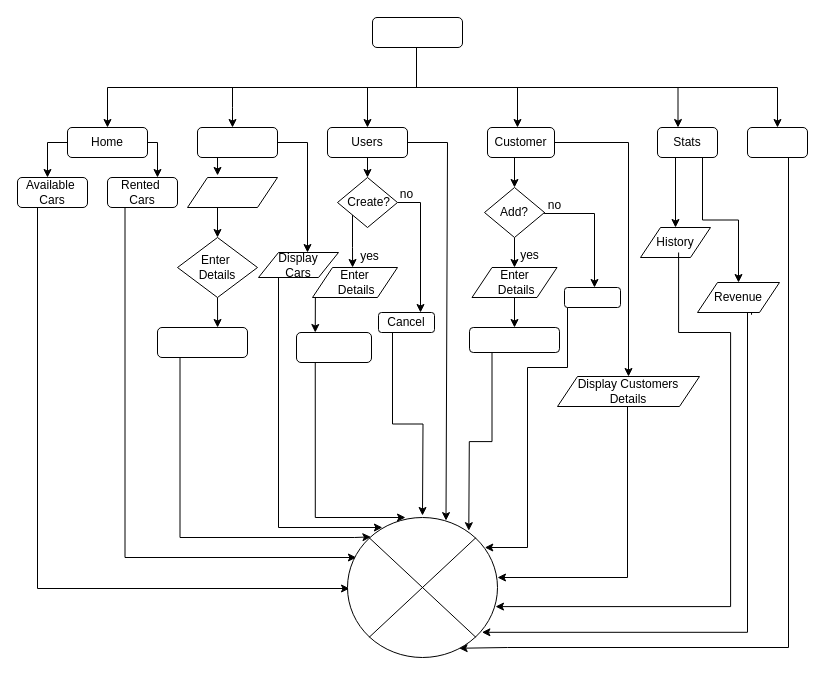
The diagram is 825 pixels wide and 675 high, and some of its shapes have lost their labels. Here are the shapes that lost their labels. From the top down, the box of each, then its label:
(372, 16, 462, 48): Admin
(196, 126, 278, 158): Cars
(746, 126, 808, 158): Logout
(186, 176, 278, 208): Add Cars
(564, 286, 620, 308): Delete
(156, 326, 248, 358): Add Success
(296, 332, 372, 362): User Created
(468, 326, 560, 352): Added
